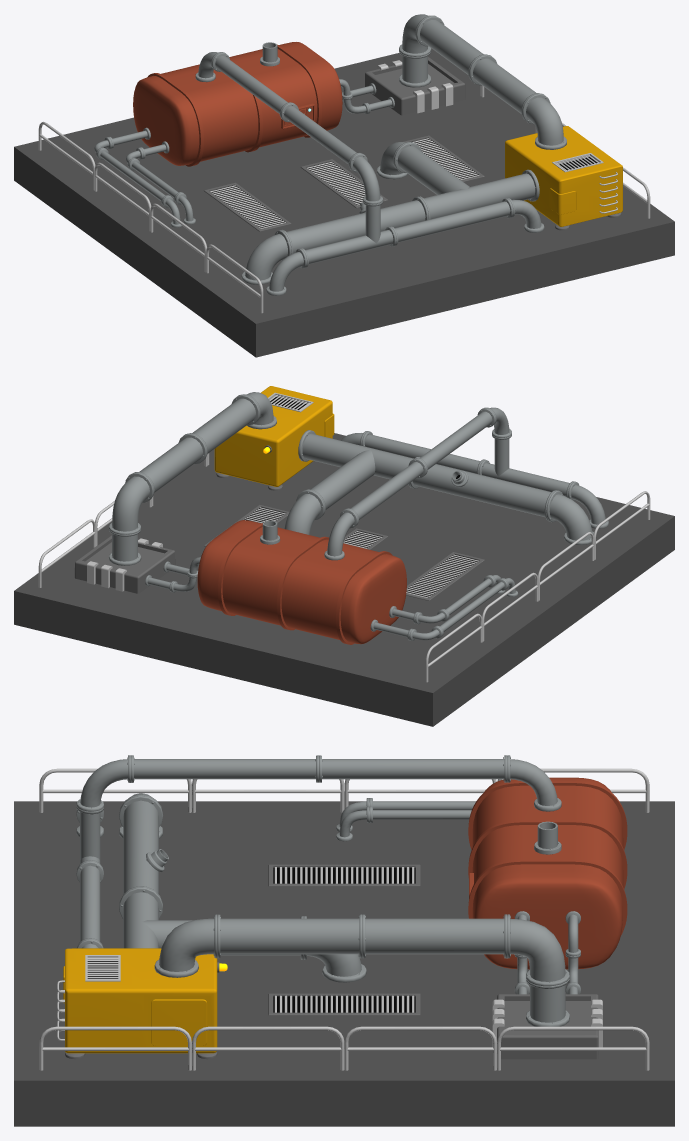
Rendered from SmokeAndFireSampleScene.fbx.
3 views of the same model, one above another, from view 1: azimuth 30°, elevation 25°; view 2: azimuth 150°, elevation 25°; view 3: azimuth 270°, elevation 25° (orthographic). The views are drawn at different scales.
Visible parts, largest first — view 1: Floor, Container, BigPipes, MediumPipes, Box, GridFrool, SmallPipes, TransferConnector, Fence, BigPipesPart; view 2: Floor, Container, BigPipes, MediumPipes, Box, SmallPipes, Fence, TransferConnector, GridFrool, BigPipesPart; view 3: Floor, BigPipes, Container, Box, MediumPipes, Fence, GridFrool, TransferConnector, SmallPipes, BigPipesPart.
Part boxes in pixels (bbox=[...]): Floor: bbox=[14, 48, 674, 357]; Container: bbox=[133, 42, 342, 166]; BigPipes: bbox=[241, 14, 566, 284]; MediumPipes: bbox=[195, 52, 544, 295]; Box: bbox=[505, 126, 622, 230]; GridFrool: bbox=[204, 135, 484, 231]; SmallPipes: bbox=[94, 79, 394, 227]; TransferConnector: bbox=[365, 57, 465, 115]; Fence: bbox=[38, 85, 650, 313]; BigPipesPart: bbox=[377, 142, 469, 194]; Floor: bbox=[14, 433, 674, 726]; Container: bbox=[197, 520, 406, 644]; BigPipes: bbox=[108, 392, 596, 565]; MediumPipes: bbox=[324, 407, 608, 560]; Box: bbox=[214, 386, 334, 490]; SmallPipes: bbox=[145, 557, 518, 640]; Fence: bbox=[38, 453, 650, 682]; TransferConnector: bbox=[74, 535, 175, 593]; GridFrool: bbox=[204, 505, 484, 600]; BigPipesPart: bbox=[284, 449, 375, 534]; Floor: bbox=[14, 801, 674, 1126]; BigPipes: bbox=[119, 793, 569, 1026]; Container: bbox=[468, 777, 627, 969]; Box: bbox=[57, 948, 217, 1059]; MediumPipes: bbox=[76, 755, 561, 948]; Fence: bbox=[39, 768, 649, 1070]; GridFrool: bbox=[268, 864, 420, 1015]; TransferConnector: bbox=[492, 994, 602, 1059]; SmallPipes: bbox=[336, 798, 580, 994]; BigPipesPart: bbox=[141, 916, 366, 982].
Bounding box in the file's own units: 1300 × 407 × 1300.
